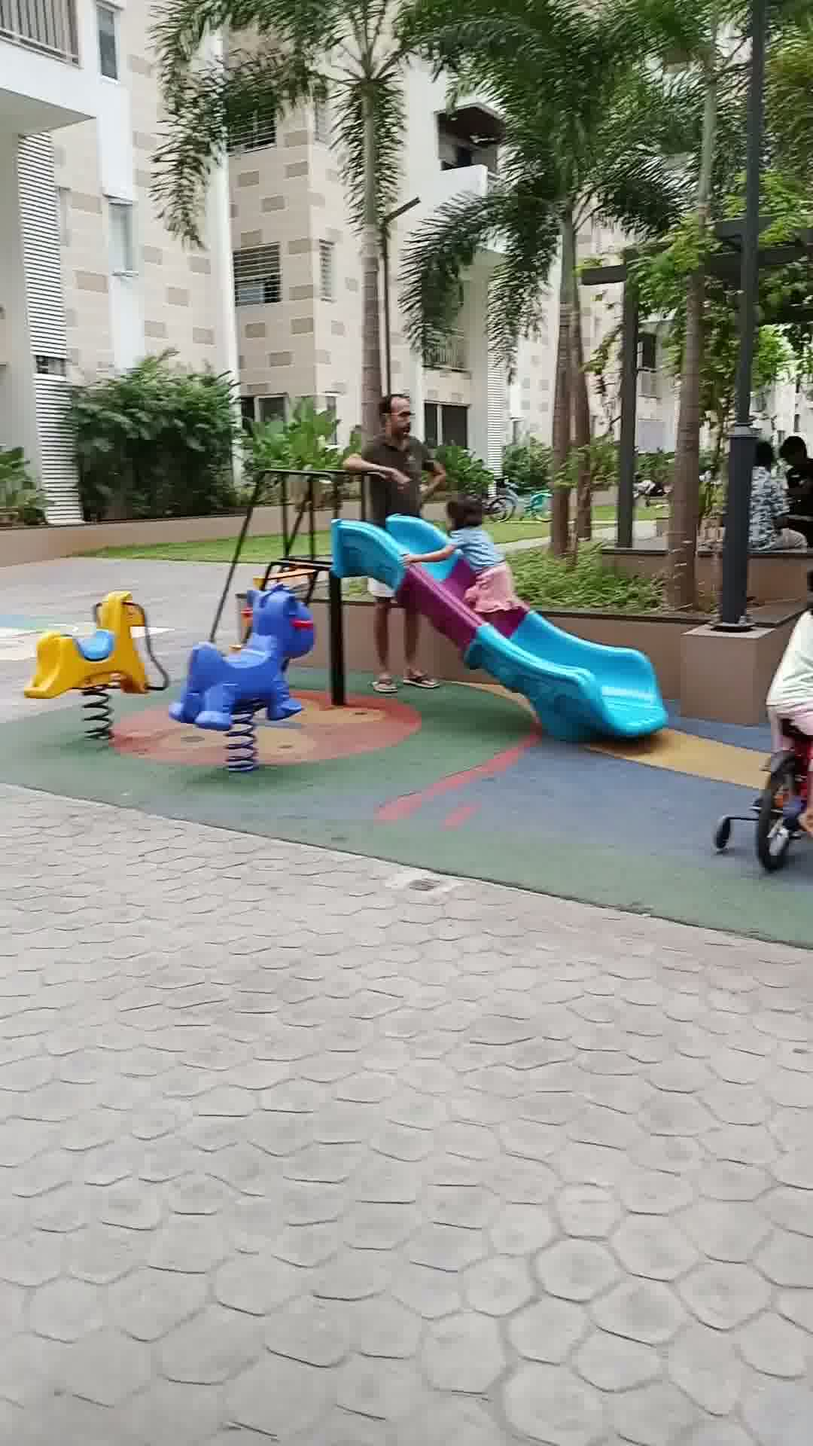person: (327, 384, 452, 717), (395, 467, 524, 640)
tree: (179, 0, 541, 490), (413, 0, 669, 575)
